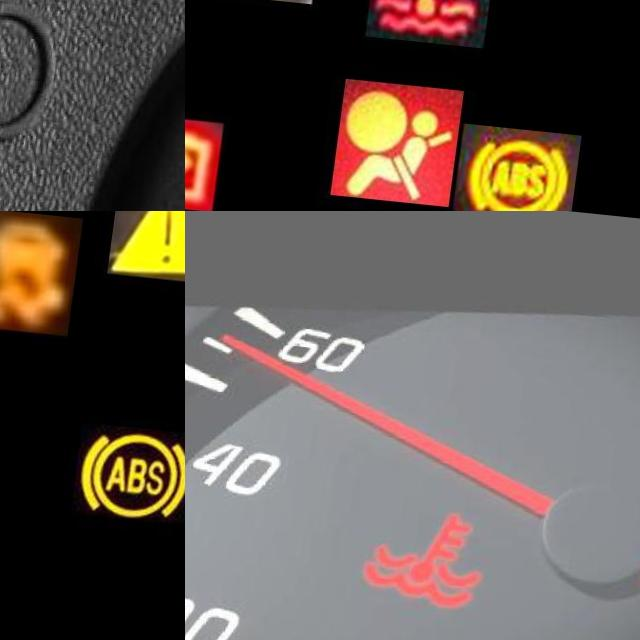Central Warning lamp: (112, 211, 185, 275)
Engine cooling system: (369, 498, 505, 614), (371, 0, 500, 40)
